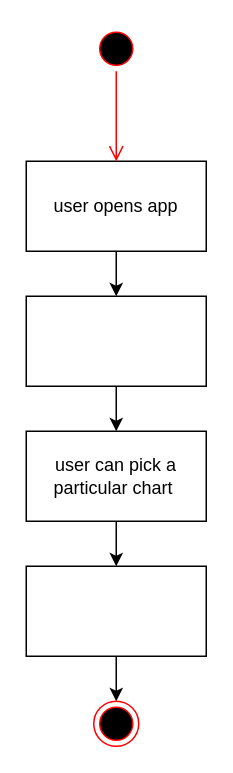
Image size: 233x773. Some labels were removed from this diagram. Here are the shapes that lost their labels. From the top down, the centre of each, then its label:
point 115,340: user clicks scrolls to the statistics section
point 115,610: user can select a timeframe to visualize changes in their statistics throughout
